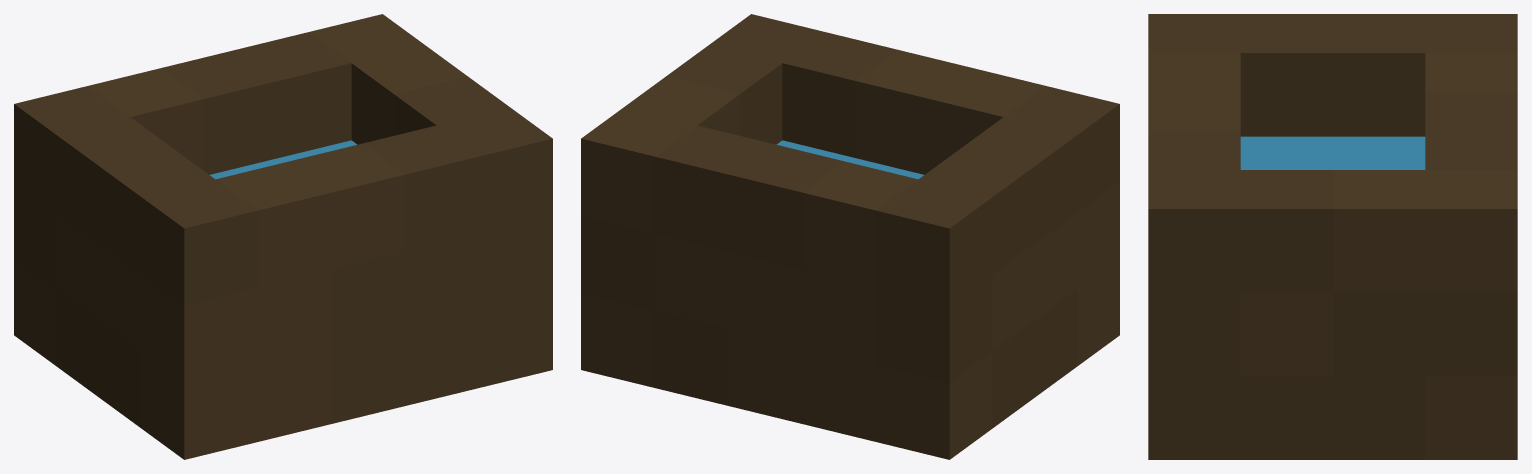
The model's file is farm-47-watertrough_S.obj.
3 renders of one model, left to right at view 1: azimuth 30°, elevation 25°; view 2: azimuth 150°, elevation 25°; view 3: azimuth 270°, elevation 25°, orthographic. The views are drawn at different scales.
Parts seen in each view (by area): view 1: watertrough_S; view 2: watertrough_S; view 3: watertrough_S.
Part boxes in pixels (left/top/right/bottom): watertrough_S: left=14, top=14, right=552, bottom=459; watertrough_S: left=581, top=14, right=1119, bottom=459; watertrough_S: left=1148, top=14, right=1517, bottom=459.
Size of the model in its own units: 0.5 by 0.3 by 0.4.
1 material, 1 textured.
